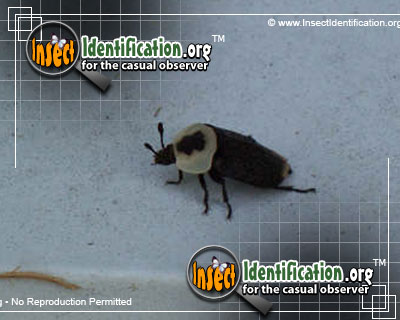American Carrion Beetle: (138, 113, 325, 218)
